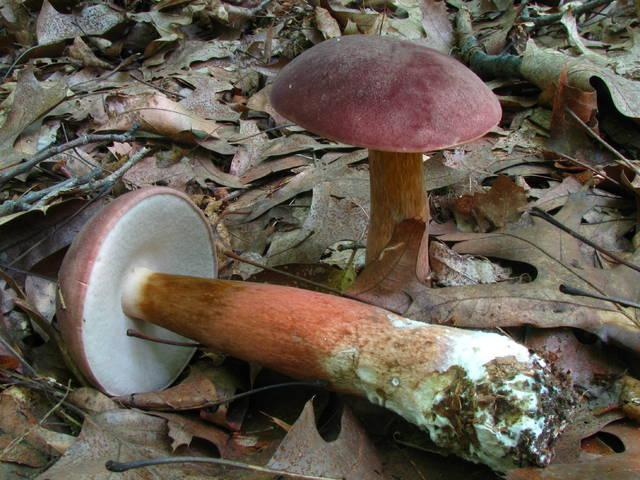poisonous_mushroom: (53, 184, 559, 459), (267, 32, 503, 282)
